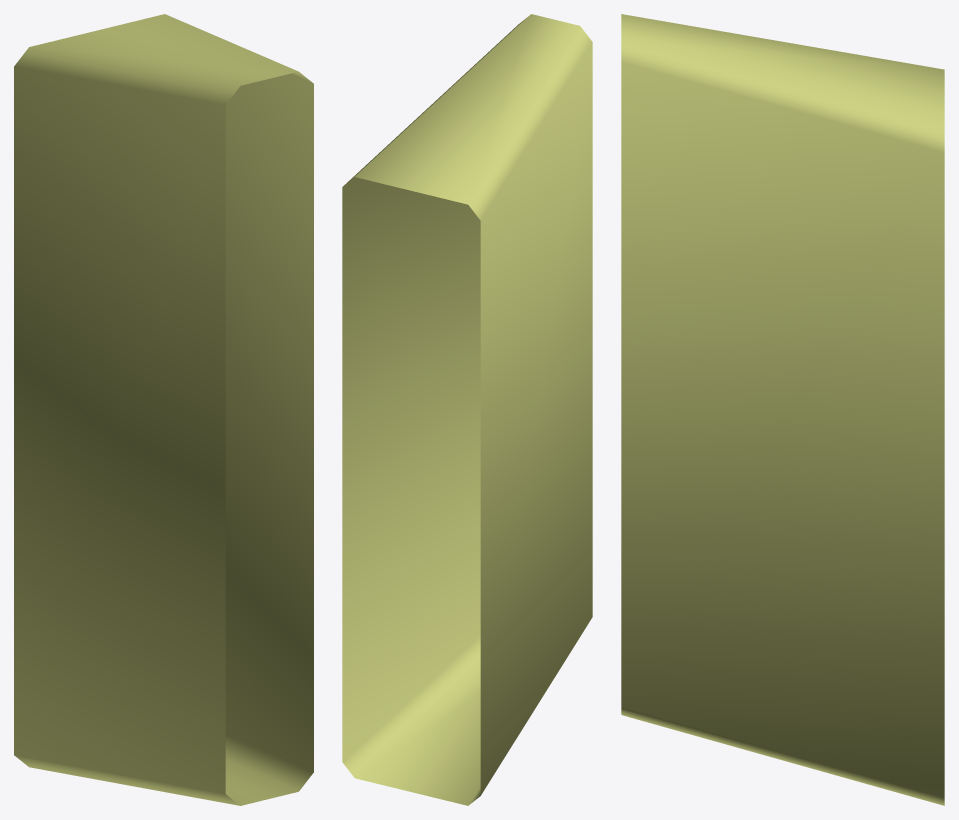
File: LightMesh_Window2.fbx
3 renders of one model, left to right at view 1: azimuth 30°, elevation 25°; view 2: azimuth 150°, elevation 25°; view 3: azimuth 270°, elevation 25°, orthographic. The views are drawn at different scales.
Visible parts, largest first — view 1: LightMesh_Window2; view 2: LightMesh_Window2; view 3: LightMesh_Window2.
Boxes of the visible parts, left/top/right/bottom form: LightMesh_Window2: left=14, top=14, right=313, bottom=805; LightMesh_Window2: left=342, top=14, right=592, bottom=805; LightMesh_Window2: left=621, top=14, right=944, bottom=805.
Bounding box in the file's own units: 166 × 765 × 300.
